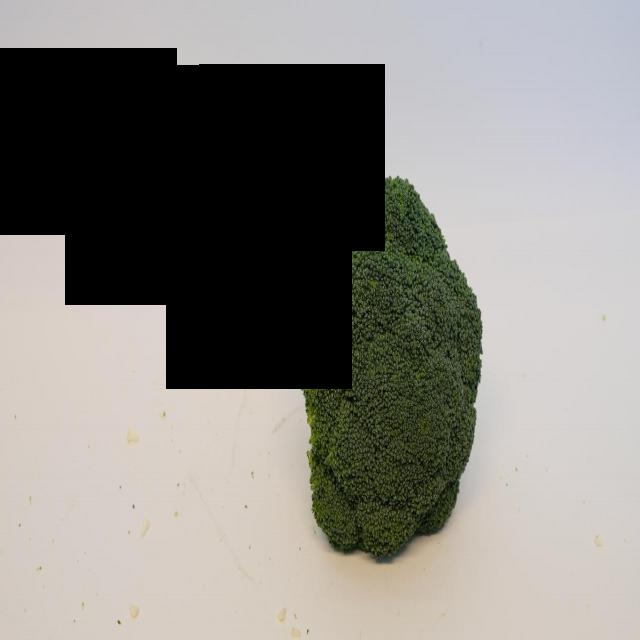broccoli: (288, 168, 488, 568)
